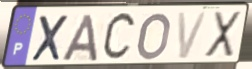A: (60, 13, 100, 63)
C: (100, 9, 138, 65)
O: (135, 12, 173, 62)
V: (176, 10, 210, 61)
X: (29, 13, 70, 63), (203, 9, 243, 60)
